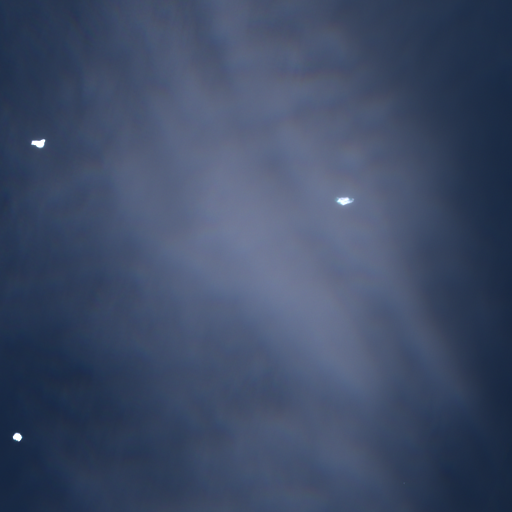Iceberg: (337, 197, 354, 205), (31, 139, 45, 147), (13, 432, 22, 441)
